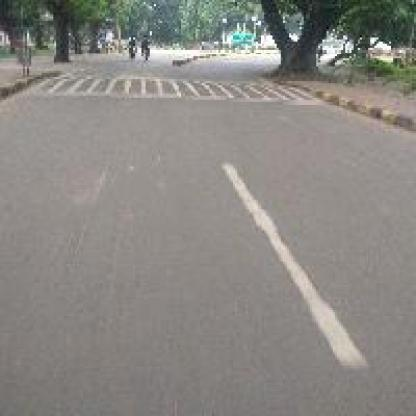Speed Bump: (33, 76, 312, 101)
